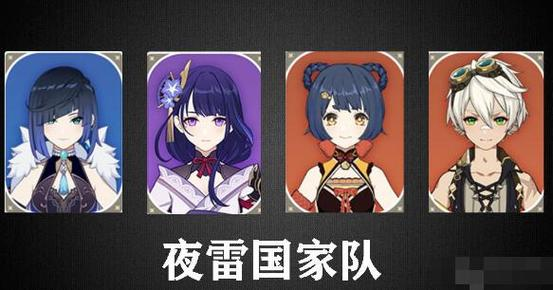夜兰: (10, 62, 122, 212)
